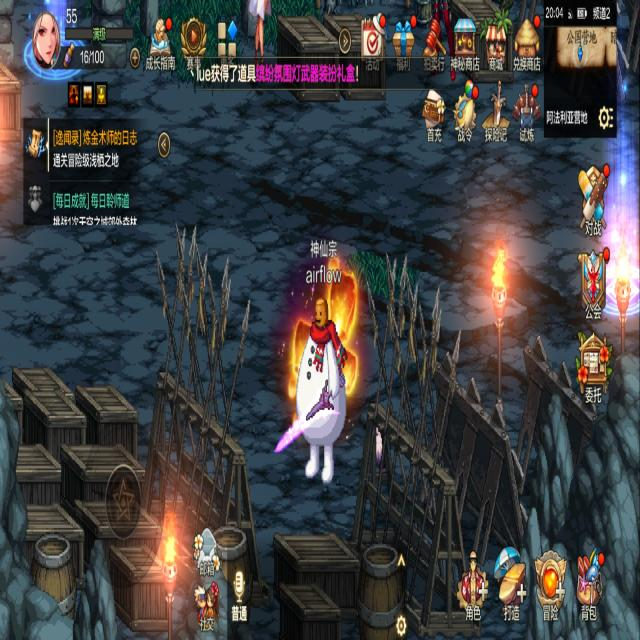direction_icon: (106, 464, 141, 537)
player: (293, 289, 347, 489)
